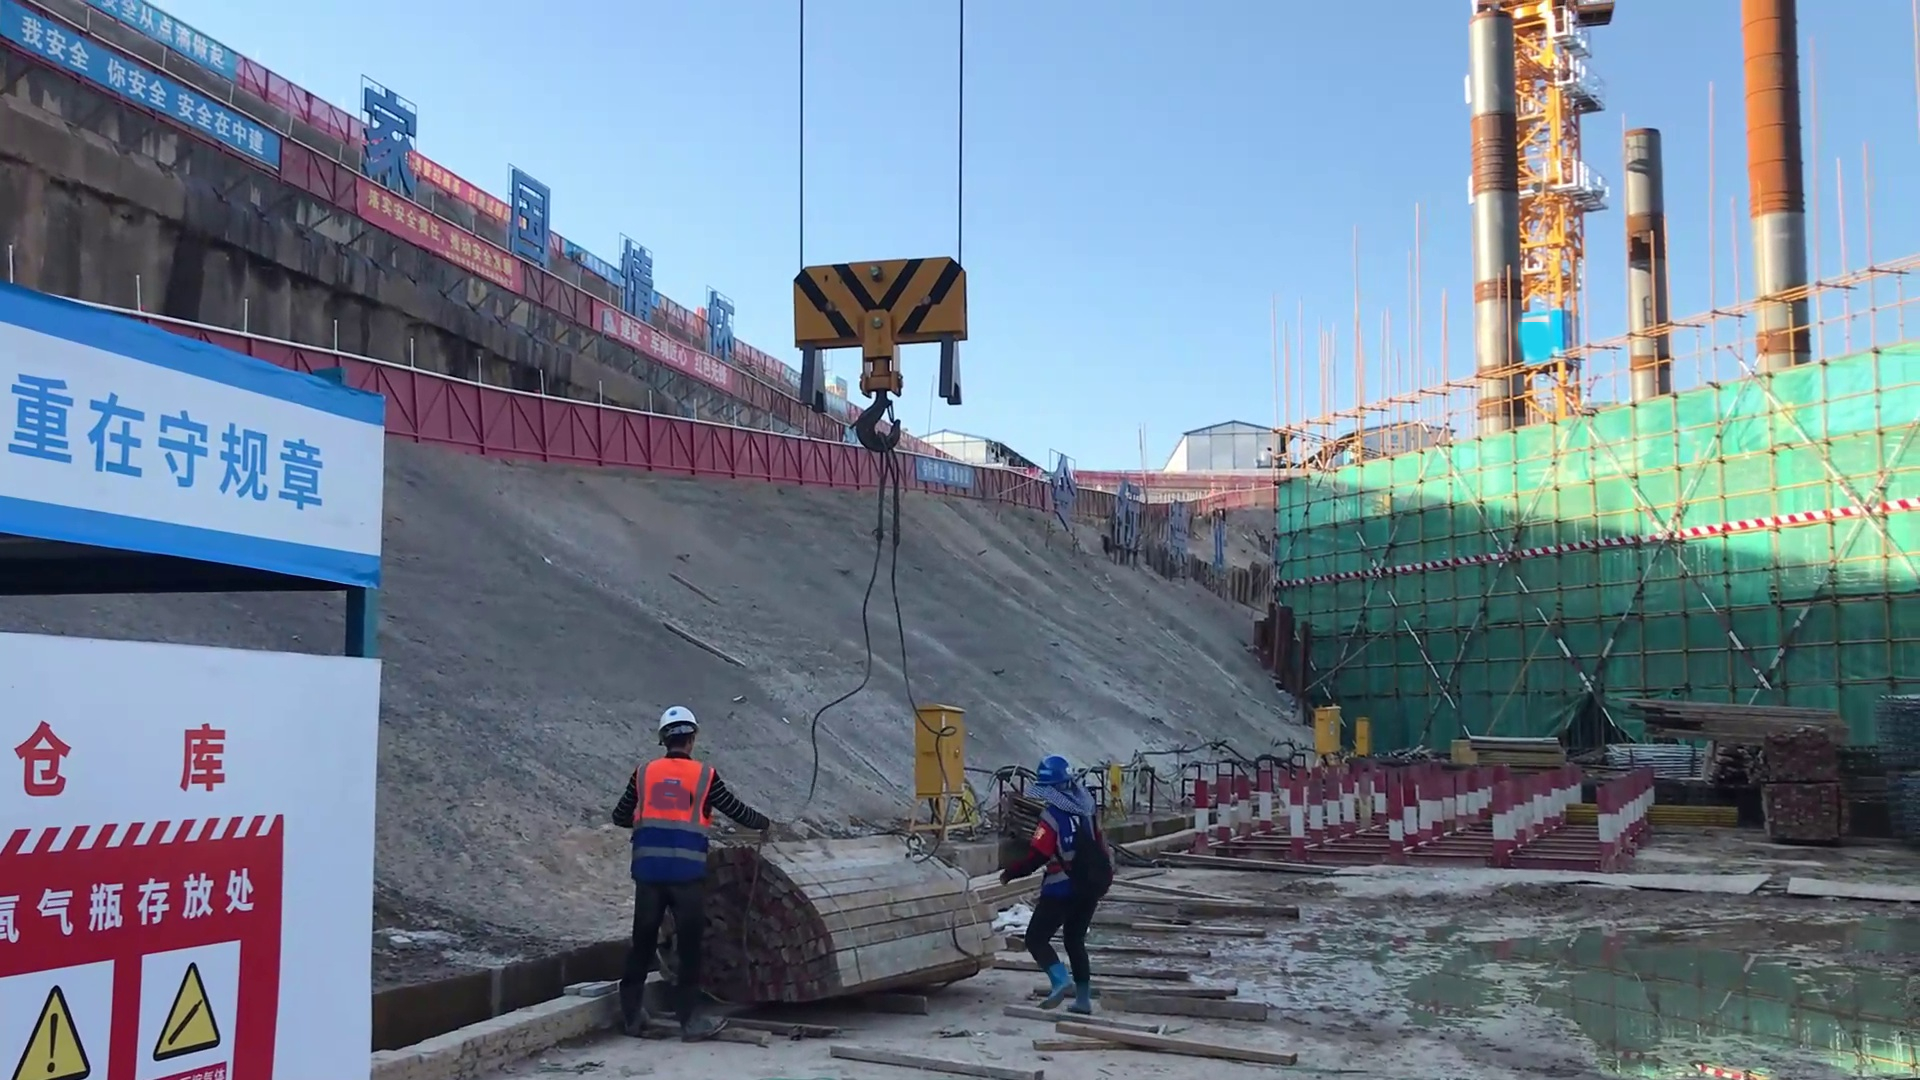ebox: (895, 683, 975, 820), (1308, 703, 1353, 757), (1344, 714, 1373, 758)
fence: (381, 364, 688, 481), (686, 419, 881, 489)
helmet: (647, 702, 700, 755), (1028, 749, 1067, 794)
hook: (804, 253, 964, 408)
person: (609, 695, 752, 1035), (1004, 749, 1106, 1037)
slogan: (1, 805, 293, 1080), (6, 352, 347, 531), (1, 5, 280, 172), (338, 168, 531, 308)
vest: (629, 749, 703, 835)
wood: (763, 839, 1007, 1027), (1615, 685, 1849, 756)
